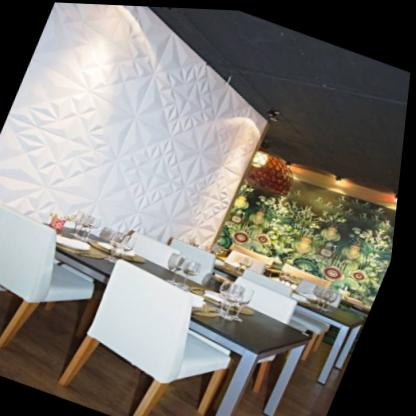Futech tiles: (0, 3, 264, 236)
